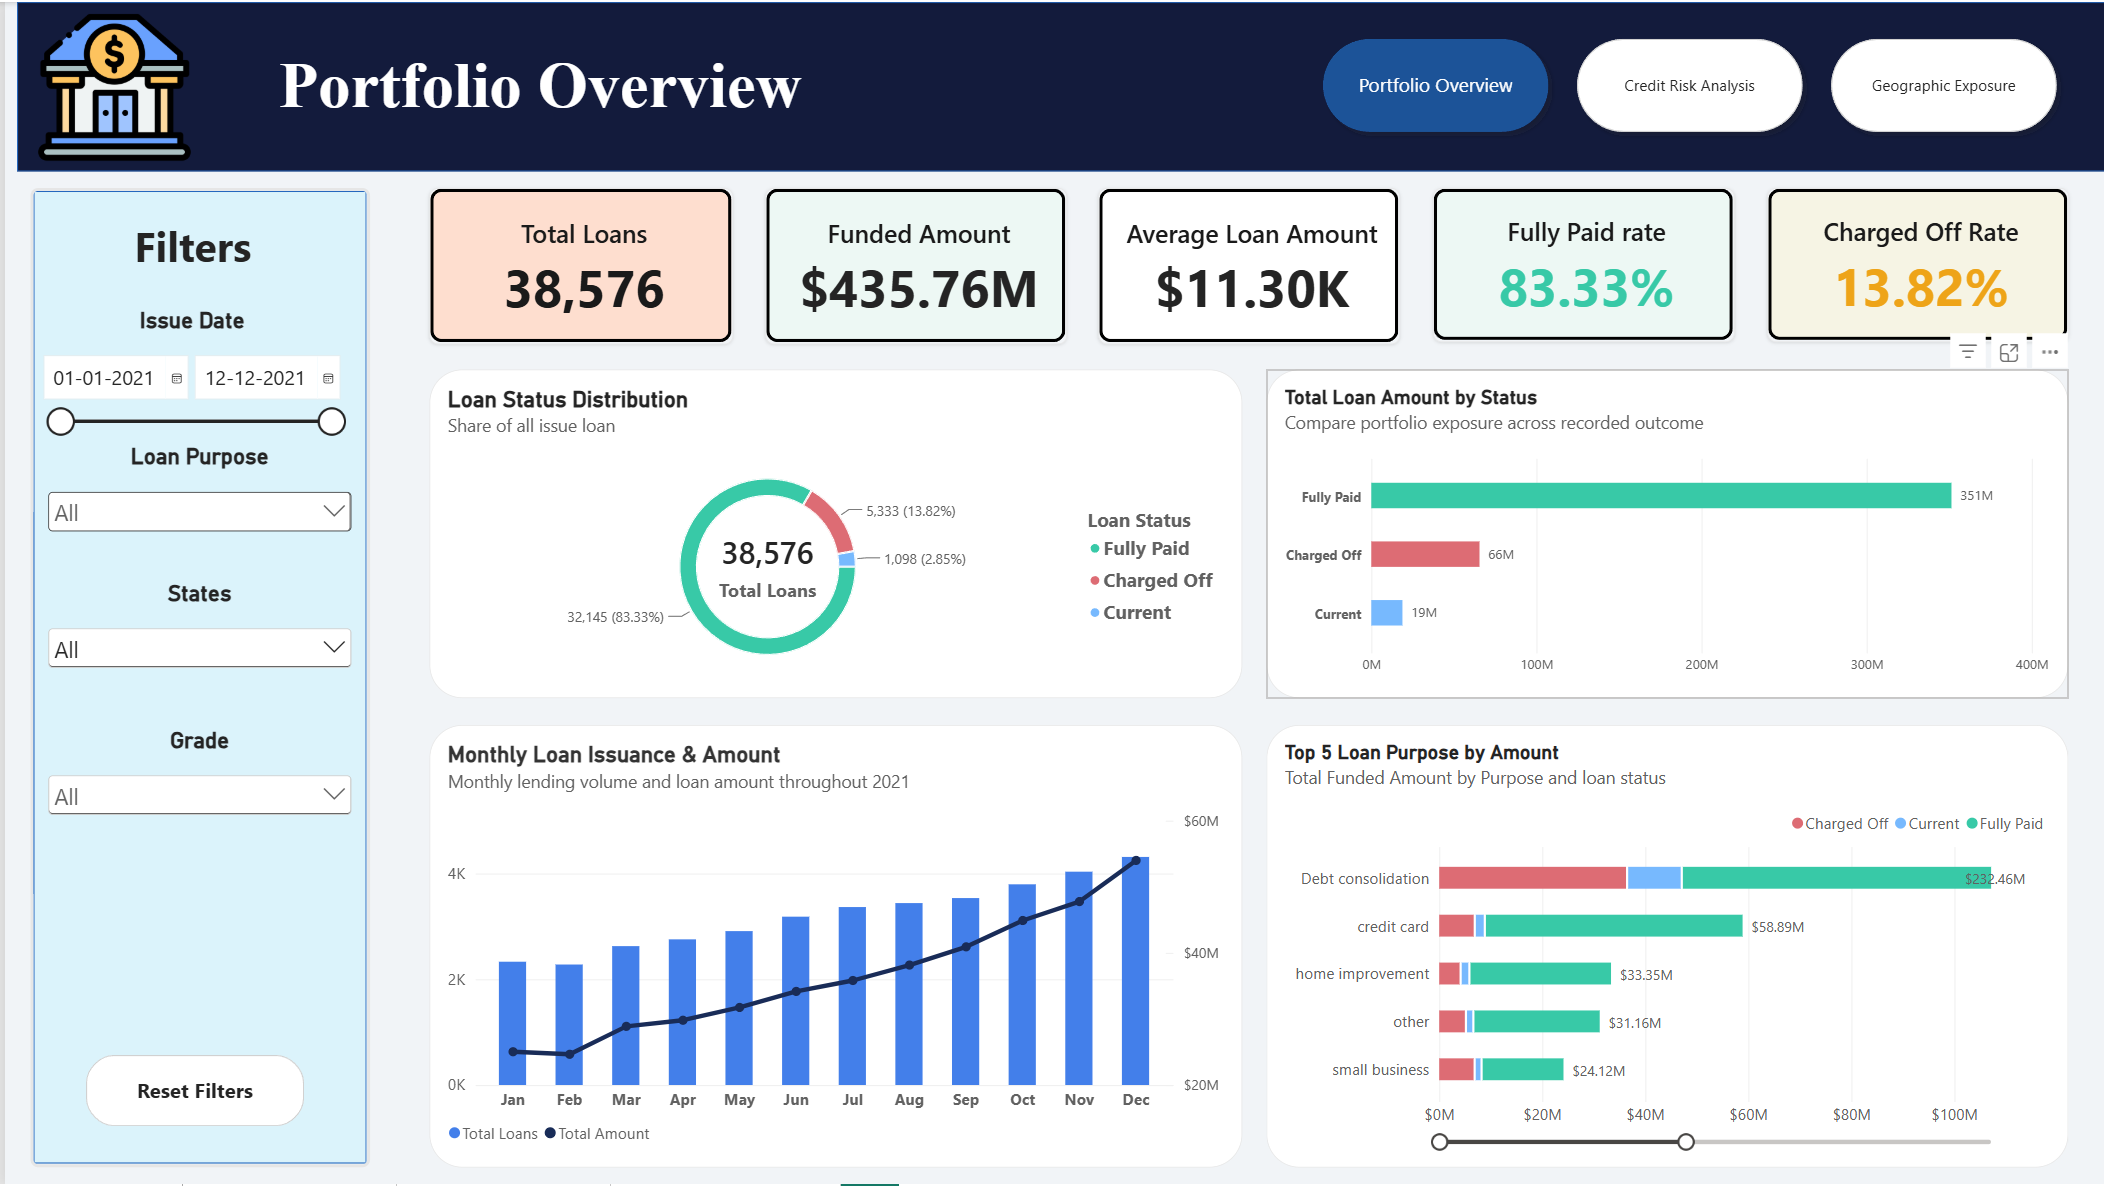

The dashboard page shown, as its layout file describes it:
{"tool":"powerbi","page":{"name":"Portfolio Overview","canvas":[1920,1080],"ordinal":0},"visuals":[{"type":"shape","box":[10.8,0,1909.2,154.8],"z":0},{"type":"shape","box":[23.7,170.2,310.2,893.9],"z":1000},{"type":"image","box":[10.8,7.7,178.1,139.4],"z":2000},{"type":"cardVisual","fields":{"Data":["Calculated_Measures.1_Total Loans"]},"box":[387.1,169.4,277.2,142.5],"z":3000},{"type":"donutChart","title":"Loan Status Distribution","fields":{"Category":["analytics Fact_Loan.loan_status"],"Y":["Calculated_Measures.1_Total Loans"]},"box":[388,336,742,300],"z":4000},{"type":"cardVisual","fields":{"Data":["Calculated_Measures.7_Fully Paid Share"]},"box":[1303.7,170.2,275.6,140.9],"z":5000},{"type":"cardVisual","fields":{"Data":["Calculated_Measures.3_Average Loan Amount"]},"box":[998.7,169.4,275.6,142.5],"z":6000},{"type":"cardVisual","fields":{"Data":["Calculated_Measures.2_Funded Amount"]},"box":[693.7,169.4,275.6,142.5],"z":7000},{"type":"cardVisual","fields":{"Data":["Calculated_Measures.8_Charged off Share"]},"box":[1608.8,170.2,275.6,140.9],"z":8000},{"type":"clusteredBarChart","title":"Total Loan Amount by Status","fields":{"Category":["analytics Fact_Loan.loan_status"],"Y":["Sum(analytics Fact_Loan.loan_amount)"]},"box":[1152,336,732,300],"z":9000},{"type":"lineClusteredColumnComboChart","title":"Monthly Loan Issuance & Amount","fields":{"Category":["analytics Dim_Date.month_name"],"Y":["Calculated_Measures.1_Total Loans"],"Y2":["Calculated_Measures.2_Funded Amount"]},"box":[388,660,742,404],"z":10000},{"type":"barChart","title":"Top 5 Loan Purpose by Amount","fields":{"Category":["analytics Dim_LoanPurpose.purpose"],"Series":["analytics Fact_Loan.loan_status"],"Y":["Calculated_Measures.2_Funded Amount"]},"box":[1152,660,732,404],"z":11000},{"type":"textbox","box":[208,42,552,70],"z":12000},{"type":"slicer","title":"Issue Date","fields":{"Values":["analytics Dim_Date.Date"]},"box":[28,278.3,287,148.8],"z":13000},{"type":"slicer","title":"Loan Purpose","fields":{"Values":["analytics Dim_LoanPurpose.purpose"]},"box":[34.5,402.8,287.1,109],"z":14000},{"type":"actionButton","title":"Reset Filter","box":[73.3,961.8,199.1,65],"z":15000},{"type":"slicer","title":"States","fields":{"Values":["analytics Dim_State.state_name"]},"box":[34.5,527.8,287,108.5],"z":16000},{"type":"slicer","title":"Grade","fields":{"Values":["analytics Dim_CreditGrade.grade"]},"box":[34.5,661.3,287.1,299.6],"z":17000},{"type":"textbox","box":[56.6,197,230.5,81.7],"z":18000},{"type":"pageNavigator","box":[1193.8,24.8,690.6,103.3],"z":19000}]}

Visuals, with their boxes in screenshot pixels (x1, y1, x2, y2), scaled from the page's 1920x1080 canvas onto the 2104x1186 screenshot:
shape: 12 0 2103 170
shape: 26 187 366 1169
image: 12 8 207 162
cardVisual - Calculated_Measures.1_Total Loans: 424 186 728 343
"Loan Status Distribution" donutChart: 425 369 1238 698
cardVisual - Calculated_Measures.7_Fully Paid Share: 1429 187 1731 342
cardVisual - Calculated_Measures.3_Average Loan Amount: 1094 186 1396 343
cardVisual - Calculated_Measures.2_Funded Amount: 760 186 1062 343
cardVisual - Calculated_Measures.8_Charged off Share: 1763 187 2065 342
"Total Loan Amount by Status" clusteredBarChart: 1262 369 2065 698
"Monthly Loan Issuance & Amount" lineClusteredColumnComboChart: 425 725 1238 1168
"Top 5 Loan Purpose by Amount" barChart: 1262 725 2065 1168
textbox: 228 46 833 123
"Issue Date" slicer: 31 306 345 469
"Loan Purpose" slicer: 38 442 352 562
"Reset Filter" actionButton: 80 1056 299 1128
"States" slicer: 38 580 352 699
"Grade" slicer: 38 726 352 1055
textbox: 62 216 315 306
pageNavigator: 1308 27 2065 141
